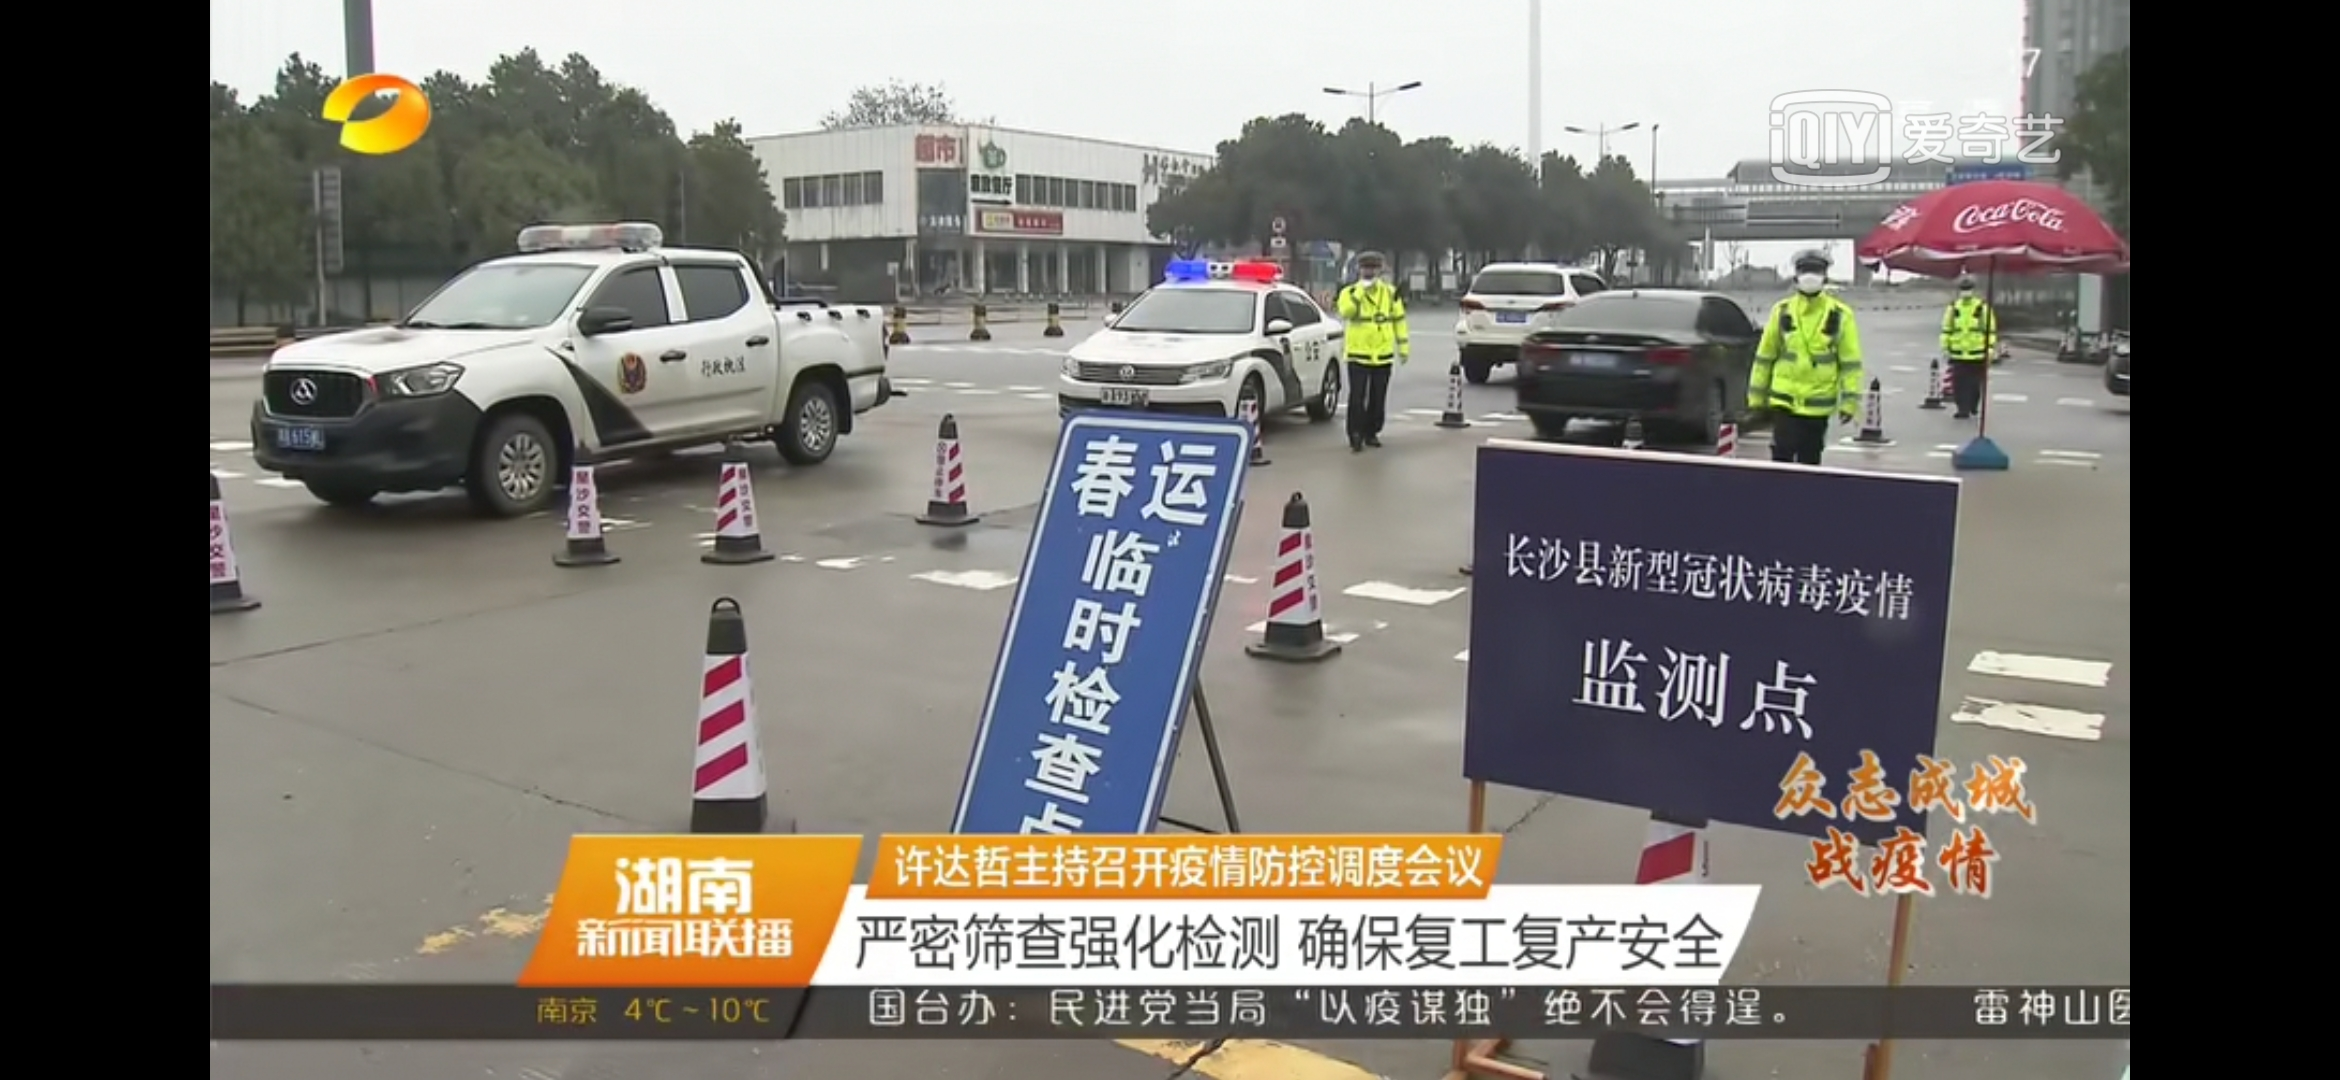correctlyWear: (1794, 266, 1830, 298), (1958, 280, 1974, 298)
